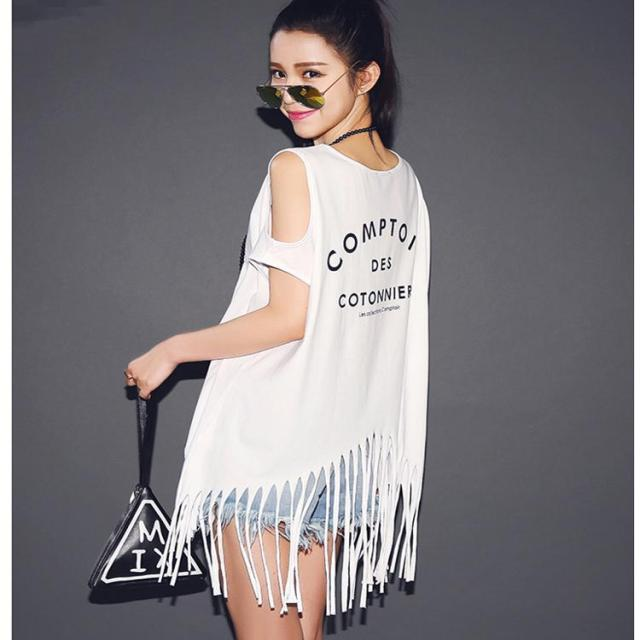short sleeve top: (158, 146, 429, 611)
